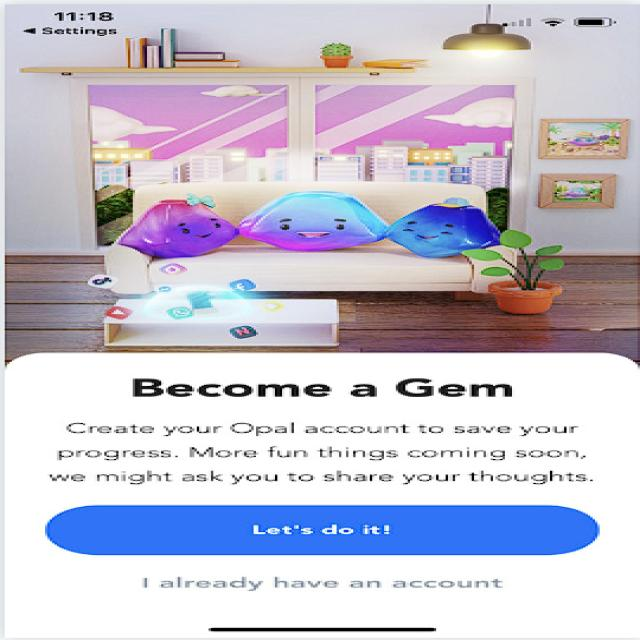button: (42, 499, 604, 560)
image: (3, 0, 640, 353)
text: (18, 363, 618, 493), (113, 569, 523, 594)
